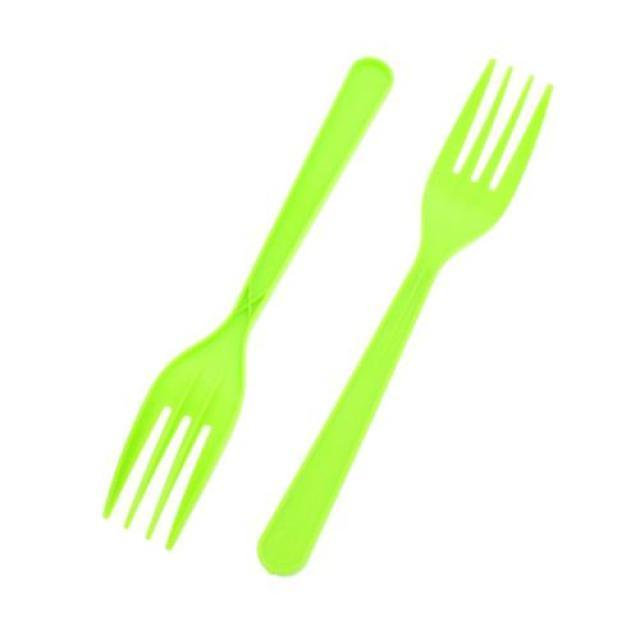spoon: (257, 60, 553, 577), (102, 56, 393, 550)
